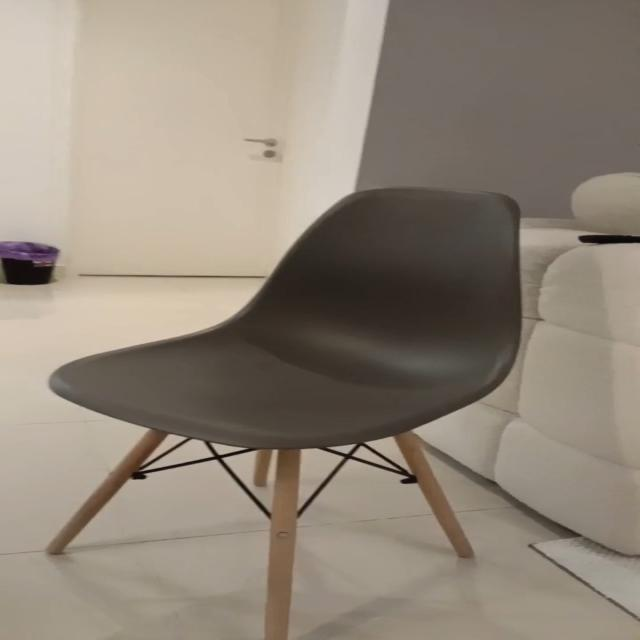sandalye: (48, 188, 521, 640)
